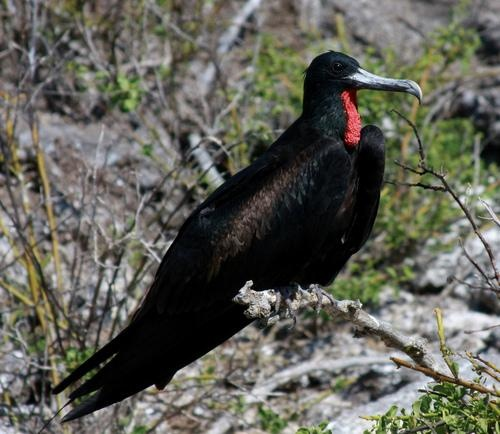bird: (51, 56, 425, 422)
